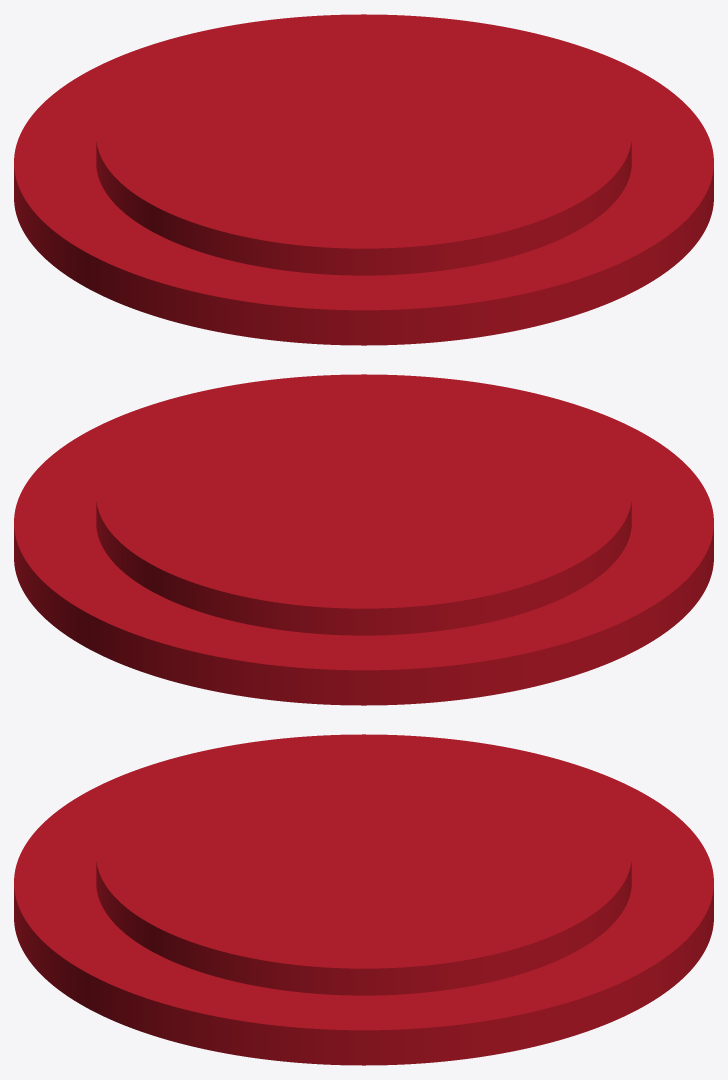
File: Red-Podium.glb
The picture shows the model from 3 angles, top to bottom: view 1: azimuth 30°, elevation 25°; view 2: azimuth 150°, elevation 25°; view 3: azimuth 270°, elevation 25°; orthographic projection.
Visible parts, largest first — view 1: Cylinder.003, Cylinder.001; view 2: Cylinder.003, Cylinder.001; view 3: Cylinder.003, Cylinder.001.
Part boxes in pixels (left/top/right/bottom): Cylinder.003: left=96, top=22, right=631, bottom=275; Cylinder.001: left=14, top=14, right=713, bottom=345; Cylinder.003: left=96, top=382, right=631, bottom=635; Cylinder.001: left=14, top=374, right=713, bottom=705; Cylinder.003: left=96, top=742, right=631, bottom=995; Cylinder.001: left=14, top=734, right=713, bottom=1065.
Bounding box in the file's own units: 3.43 × 0.3358 × 3.43.
